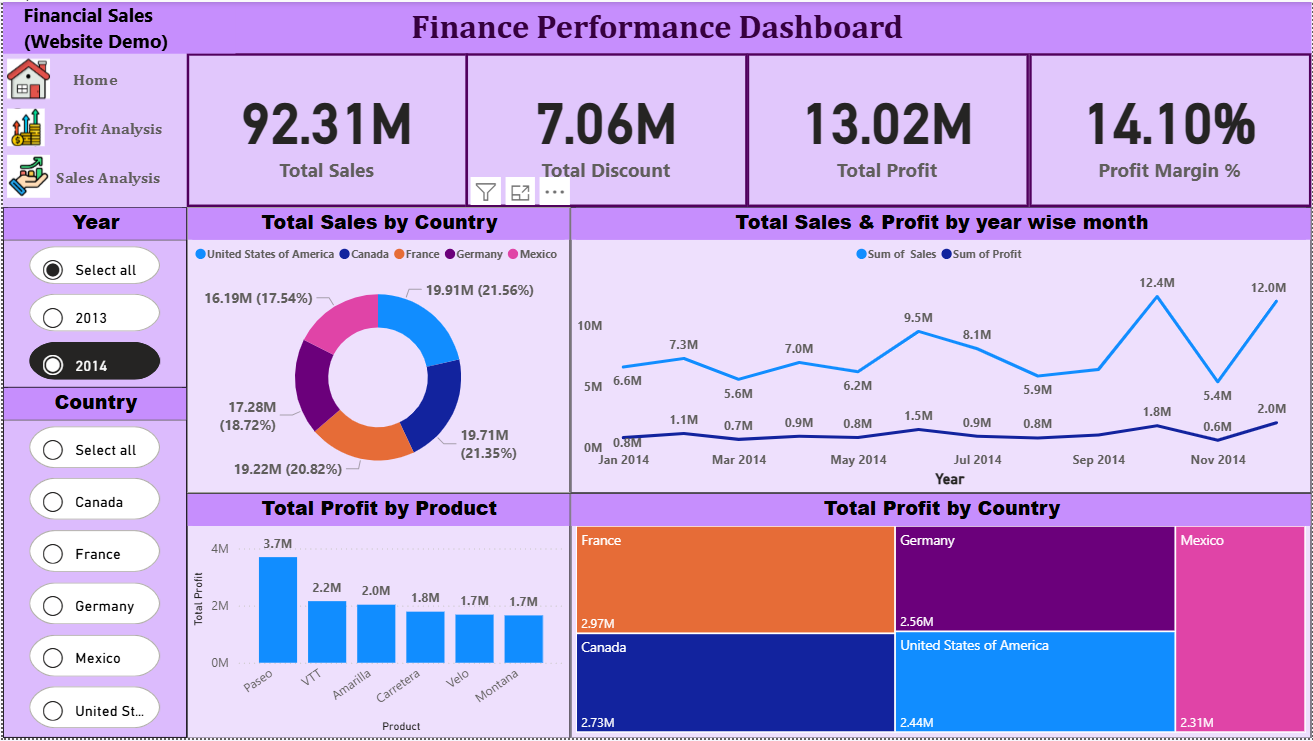

This screenshot's page, from the dashboard's own definition file:
{"tool":"powerbi","page":{"name":"Home","canvas":[1280,720],"ordinal":0},"visuals":[{"type":"shape","box":[0,50,180,670],"z":0},{"type":"textbox","box":[0,0,1280,50],"z":1000},{"type":"card","fields":{"Values":["financials.Total Profit"]},"box":[728,50,276,150],"z":2000},{"type":"card","fields":{"Values":["financials.Total Sales"]},"box":[180,50,275,150],"z":3000},{"type":"card","fields":{"Values":["financials.Total Discount"]},"box":[452,50,276,150],"z":4000},{"type":"card","fields":{"Values":["financials.Profit Margin %"]},"box":[1004,50,276,150],"z":5000},{"type":"actionButton","box":[0,50,180,50],"z":6000},{"type":"actionButton","box":[0,100,180,45],"z":7000},{"type":"actionButton","box":[0,145,180,50],"z":8000},{"type":"donutChart","title":"Total Sales by Country","fields":{"Y":["Sum(financials. Sales)"],"Category":["financials.Country"]},"box":[180,200,375,280],"z":10000},{"type":"lineChart","title":"Total Sales & Profit by year wise month","fields":{"Category":["financials.Date.Variation.Date Hierarchy.Year","financials.Date.Variation.Date Hierarchy.Quarter","financials.Date.Variation.Date Hierarchy.Month","financials.Date.Variation.Date Hierarchy.Day"],"Y":["Sum(financials. Sales)","Sum(financials.Profit)"]},"box":[555,200,725,280],"z":11000},{"type":"clusteredColumnChart","fields":{"Category":["financials.Product"],"Y":["financials.Total Profit"]},"box":[180,480,375,240],"z":12000},{"type":"treemap","title":"Total Profit by Country","fields":{"Group":["financials.Country"],"Values":["Sum(financials.Profit)"]},"box":[555,480,725,240],"z":13000},{"type":"advancedSlicerVisual","fields":{"Values":["financials.Date.Variation.Date Hierarchy.Year"]},"box":[0,200,180,176.7],"z":14000},{"type":"advancedSlicerVisual","fields":{"Values":["financials.Country"]},"box":[0,376.7,180,343.3],"z":15000},{"type":"shape","box":[0,0,227,50],"z":16501}]}

Visuals, with their boxes in screenshot pixels (x1, y1, x2, y2), scaled from the page's 1280x720 canvas onto the 1313x741 screenshot:
shape: bbox=[0, 51, 185, 740]
textbox: bbox=[0, 0, 1312, 51]
card - financials.Total Profit: bbox=[747, 51, 1030, 206]
card - financials.Total Sales: bbox=[185, 51, 467, 206]
card - financials.Total Discount: bbox=[464, 51, 747, 206]
card - financials.Profit Margin %: bbox=[1030, 51, 1312, 206]
actionButton: bbox=[0, 51, 185, 103]
actionButton: bbox=[0, 103, 185, 149]
actionButton: bbox=[0, 149, 185, 201]
"Total Sales by Country" donutChart: bbox=[185, 206, 569, 494]
"Total Sales & Profit by year wise month" lineChart: bbox=[569, 206, 1312, 494]
clusteredColumnChart - financials.Product x financials.Total Profit: bbox=[185, 494, 569, 740]
"Total Profit by Country" treemap: bbox=[569, 494, 1312, 740]
advancedSlicerVisual - financials.Date.Variation.Date Hierarchy.Year: bbox=[0, 206, 185, 388]
advancedSlicerVisual - financials.Country: bbox=[0, 388, 185, 740]
shape: bbox=[0, 0, 233, 51]
